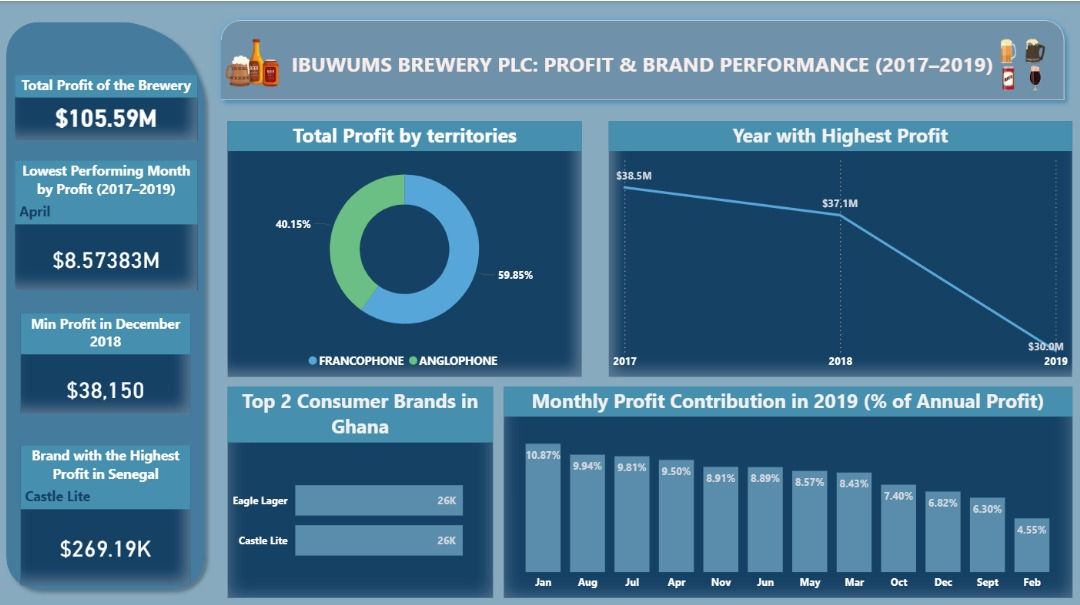

This screenshot's page, from the dashboard's own definition file:
{"tool":"powerbi","page":{"name":"Territories","canvas":[1280,720],"ordinal":0},"visuals":[{"type":"shape","box":[0,16.2,252.5,687.5],"z":0},{"type":"card","title":"Total Profit of the Brewery","fields":{"Values":["Sum(Q1 Profit worth of the brewerie.Total_Profit)"]},"box":[18.8,87.5,215,77.5],"z":1000},{"type":"donutChart","title":"Total Profit by territories","fields":{"Category":["Q2 PROFIT BTW THE 2 TERRITORIES.territories"],"Y":["Sum(Q2 PROFIT BTW THE 2 TERRITORIES.Total_profit)"]},"box":[270,141.2,417.5,301.2],"z":2000},{"type":"lineChart","title":"Year with Highest Profit","fields":{"Category":["Q4  Year with the highest profi.YEARS"],"Y":["Sum(Q4  Year with the highest profi.total_profit)"]},"box":[718.8,141.2,546.2,301.2],"z":3000},{"type":"cardVisual","title":"Lowest Performing Month by Profit (2017–2019)","fields":{"Data":["Sum(Q5  month in the three years wa.total_profit)"]},"box":[18.8,188.8,215,152.5],"z":4000},{"type":"cardVisual","title":"Min Profit in December 2018","fields":{"Data":["Sum(Q6  minimum profit in the month.minimum_profit)"]},"box":[26.2,368.8,200,118.8],"z":5000},{"type":"columnChart","title":"Monthly Profit Contribution in 2019 (% of Annual Profit)","fields":{"Category":["Q7  profit in percentage for ea.MONTHS"],"Y":["Sum(Q7  profit in percentage for ea.profit_percentage)"]},"box":[595,455,670,248.8],"z":6000},{"type":"cardVisual","title":"Brand with the Highest Profit in Senegal","fields":{"Data":["Sum(Q8  brand generated the highest.Maximum_profit)"]},"box":[26.2,523.8,200,165],"z":7000},{"type":"barChart","title":"Top 2 Consumer Brands in Ghana","fields":{"Category":["Q11  top two choice of consumer.BRANDS"],"Y":["Sum(Q11  top two choice of consumer.total_Qty)"]},"box":[270,455,312.5,248.8],"z":8000},{"type":"shape","title":"IBUWUMS BREWERY PLC: Profit & Brand Performance (2017–2019)","box":[252.5,13.8,1012.5,112.5],"z":9000},{"type":"image","box":[261.3,32.4,77.9,74.3],"z":10000},{"type":"image","box":[1151.8,32.4,112.7,85.1],"z":11000}]}

Visuals, with their boxes in screenshot pixels (x1, y1, x2, y2), scaled from the page's 1280x720 canvas onto the 1080x605 screenshot:
shape: bbox=(0, 14, 213, 591)
"Total Profit of the Brewery" card: bbox=(16, 74, 197, 139)
"Total Profit by territories" donutChart: bbox=(228, 119, 580, 372)
"Year with Highest Profit" lineChart: bbox=(606, 119, 1067, 372)
"Lowest Performing Month by Profit (2017–2019)" cardVisual: bbox=(16, 159, 197, 287)
"Min Profit in December 2018" cardVisual: bbox=(22, 310, 191, 410)
"Monthly Profit Contribution in 2019 (% of Annual Profit)" columnChart: bbox=(502, 382, 1067, 591)
"Brand with the Highest Profit in Senegal" cardVisual: bbox=(22, 440, 191, 579)
"Top 2 Consumer Brands in Ghana" barChart: bbox=(228, 382, 491, 591)
"IBUWUMS BREWERY PLC: Profit & Brand Performance (2017–2019)" shape: bbox=(213, 12, 1067, 106)
image: bbox=(220, 27, 286, 90)
image: bbox=(972, 27, 1067, 99)
